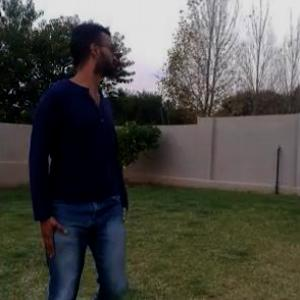follow: (30, 17, 136, 299)
